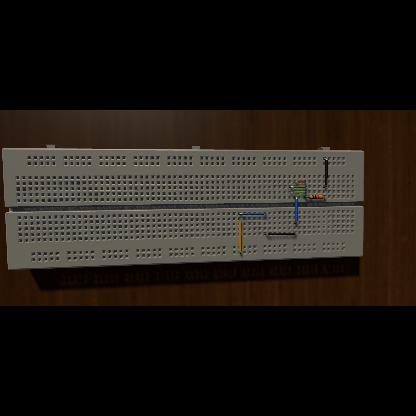breadboard: (2, 146, 364, 270)
resistor: (309, 195, 323, 199)
wire: (238, 218, 242, 254), (264, 232, 296, 236), (323, 158, 327, 188), (294, 198, 298, 224), (238, 213, 266, 215), (290, 186, 306, 188), (290, 192, 306, 194), (294, 181, 306, 183)
